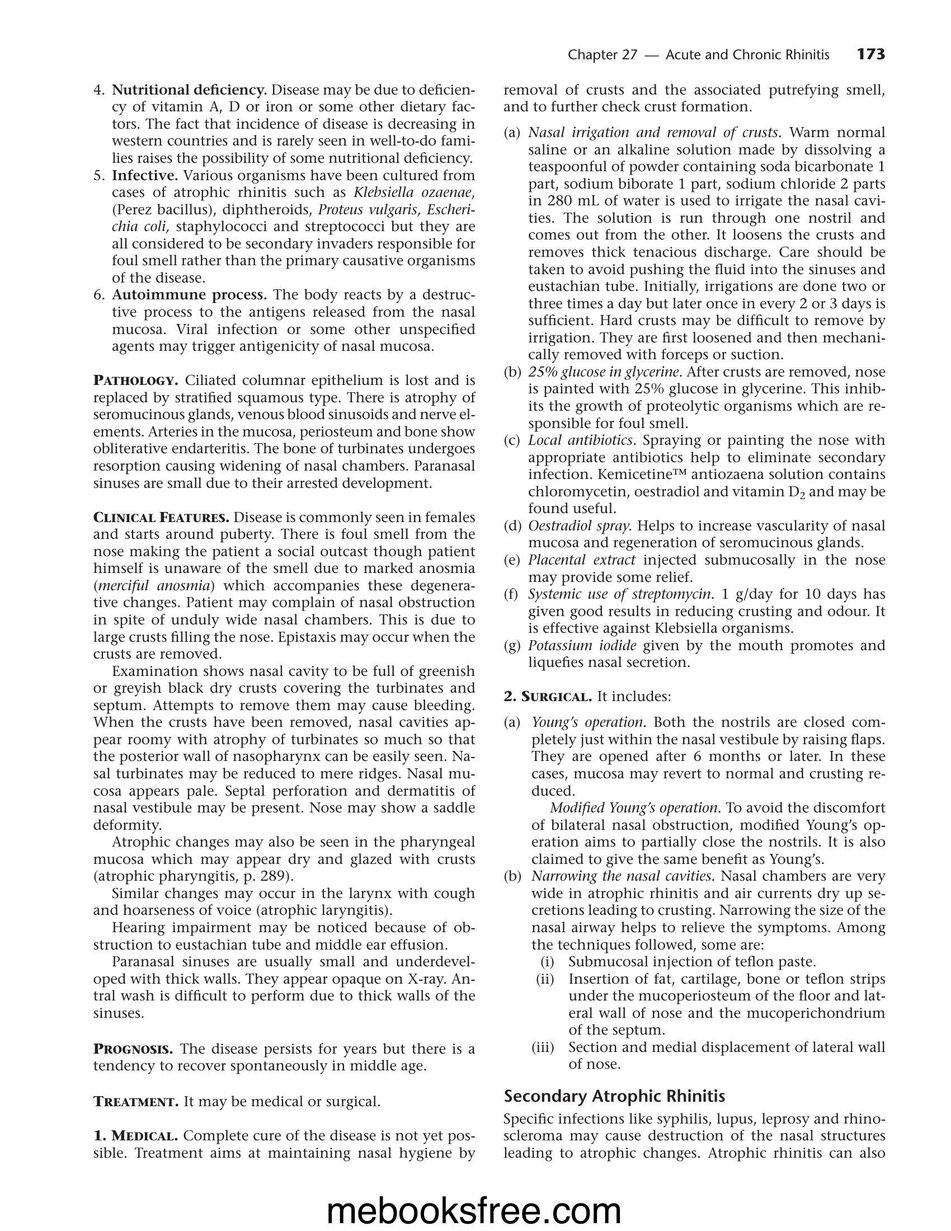header: (567, 47, 830, 65)
list: (502, 124, 886, 672), (502, 714, 888, 1072), (93, 81, 477, 356), (92, 1127, 476, 1163), (502, 82, 886, 113)
section-heading: (503, 1087, 726, 1107)
text: (92, 372, 477, 1111), (503, 1111, 887, 1162), (502, 689, 672, 705)
